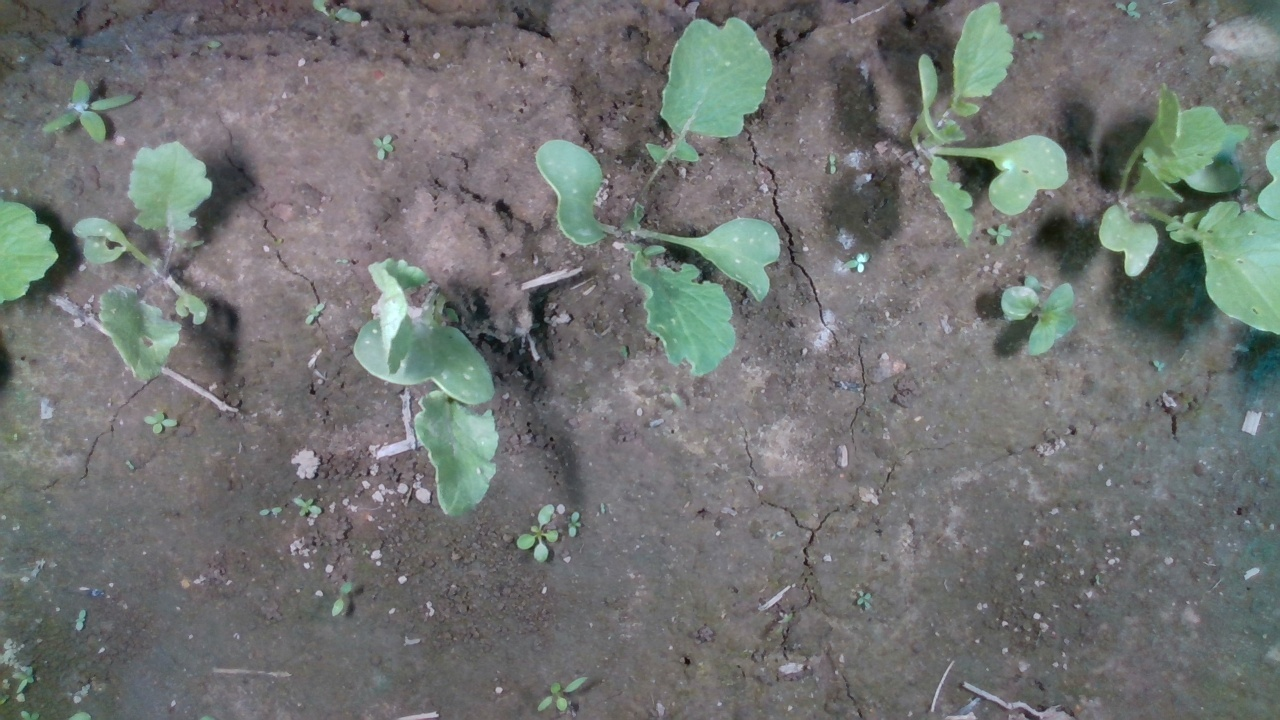weed: (41, 75, 139, 147), (514, 501, 558, 564), (536, 675, 588, 714), (140, 409, 179, 434), (330, 579, 351, 617), (841, 251, 871, 275), (293, 494, 322, 518), (984, 223, 1013, 245), (373, 133, 393, 160), (304, 301, 325, 324), (565, 510, 582, 538), (855, 588, 872, 611), (258, 504, 284, 518), (1021, 27, 1047, 41), (74, 608, 87, 632), (828, 153, 837, 175)
